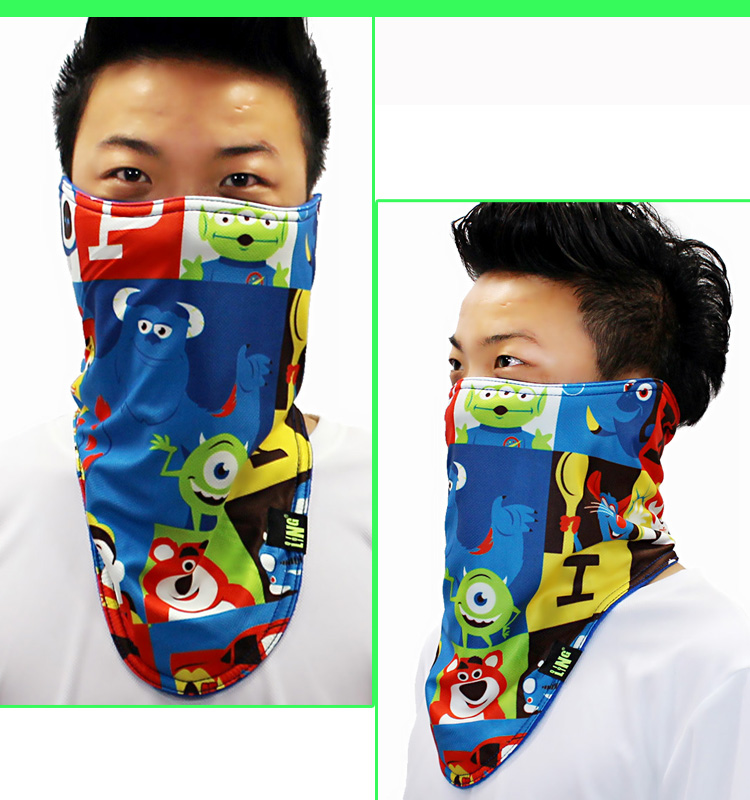face_mask: (64, 40, 310, 403), (440, 267, 617, 528)
